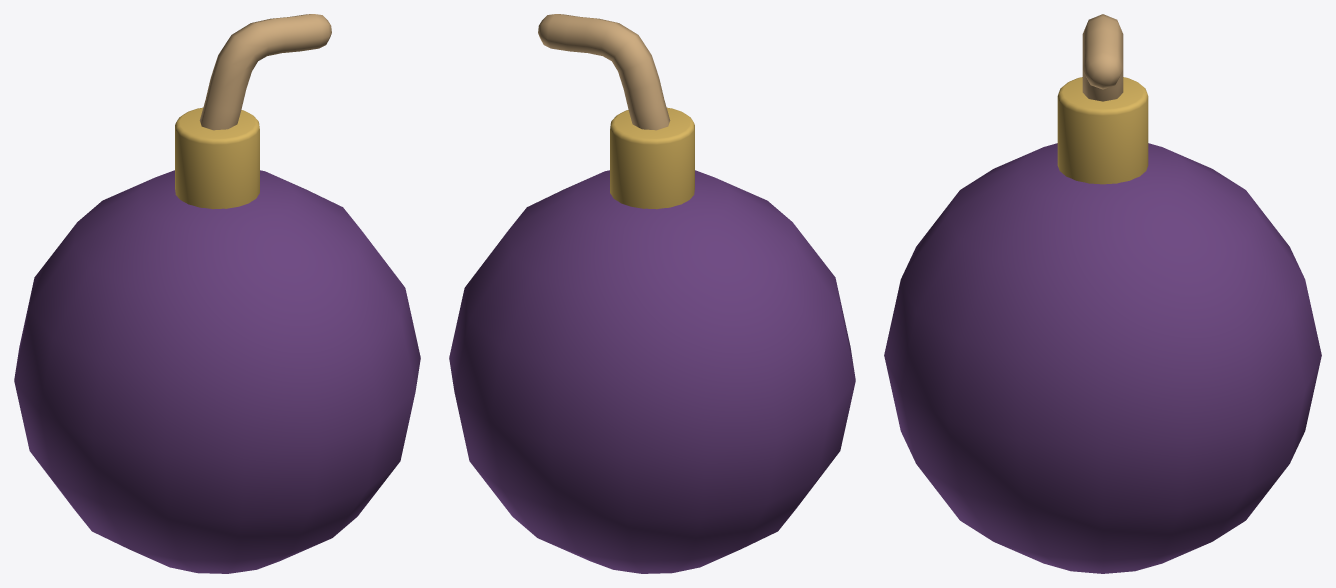
File: cartoon_bomb.glb
3 renders of one model, left to right at view 1: azimuth 30°, elevation 25°; view 2: azimuth 150°, elevation 25°; view 3: azimuth 270°, elevation 25°, orthographic. The views are drawn at different scales.
Visible parts, largest first — view 1: Sphere, Neck, Decorative_fuse; view 2: Sphere, Neck, Decorative_fuse; view 3: Sphere, Neck, Decorative_fuse.
Part boxes in pixels (x1,y1,x2,y2): Sphere: [14, 170, 420, 573]; Neck: [175, 107, 259, 209]; Decorative_fuse: [199, 14, 331, 130]; Sphere: [449, 170, 855, 573]; Neck: [610, 107, 694, 209]; Decorative_fuse: [538, 14, 670, 130]; Sphere: [884, 143, 1321, 573]; Neck: [1057, 77, 1148, 184]; Decorative_fuse: [1082, 14, 1123, 101].
Size of the model in its own units: 0.26 by 0.3654 by 0.26.
